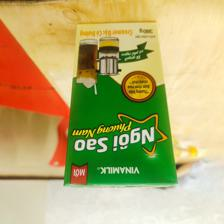NSPN_Hop: (63, 23, 179, 187)
